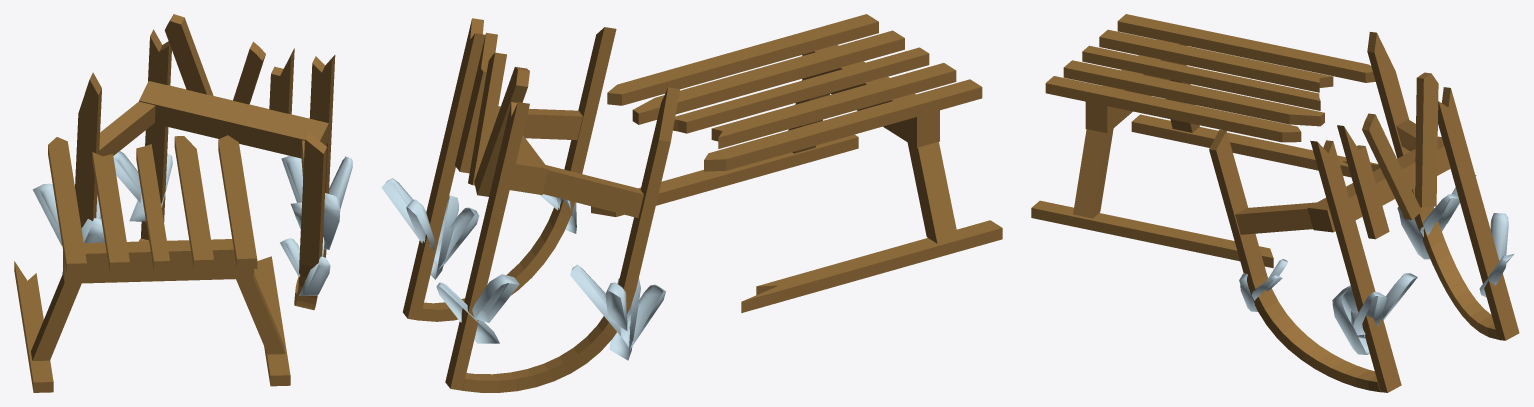
Rendered from BrokenSledge.fbx.
The picture shows the model from 3 angles, left to right: view 1: azimuth 30°, elevation 25°; view 2: azimuth 150°, elevation 25°; view 3: azimuth 270°, elevation 25°; orthographic projection. The views are drawn at different scales.
Visible parts, largest first — view 1: Cube; view 2: Cube; view 3: Cube.
Part boxes in pixels (left/top/right/bottom): Cube: left=14, top=14, right=352, bottom=392; Cube: left=381, top=14, right=1002, bottom=392; Cube: left=1031, top=14, right=1519, bottom=392.
Bounding box in the file's own units: 185 × 111 × 185.
